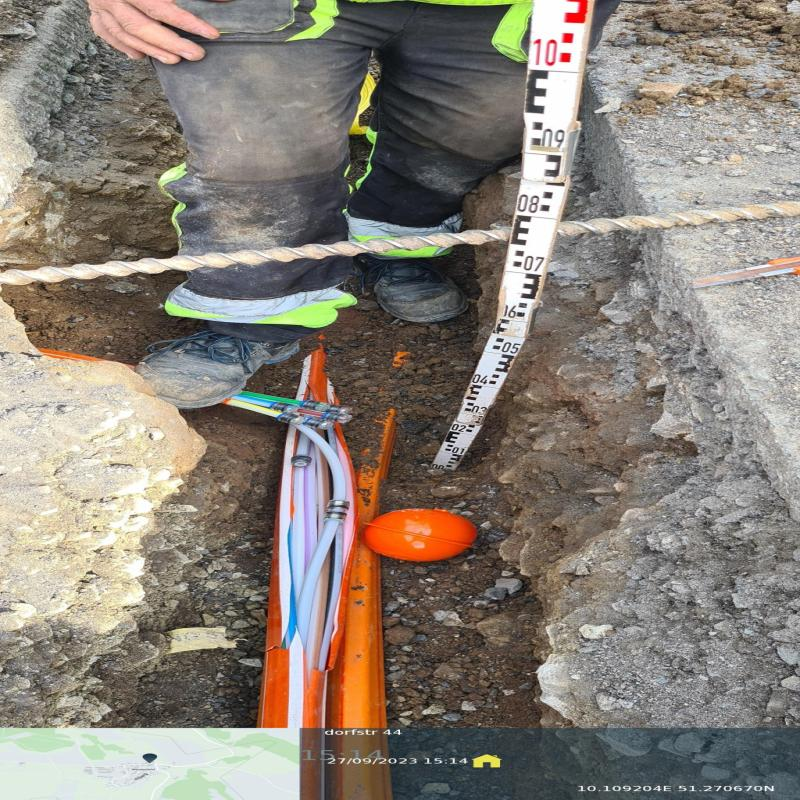Kugelmarker: (365, 509, 471, 566)
Orang-Speednetrohrchen: (332, 558, 392, 795)
